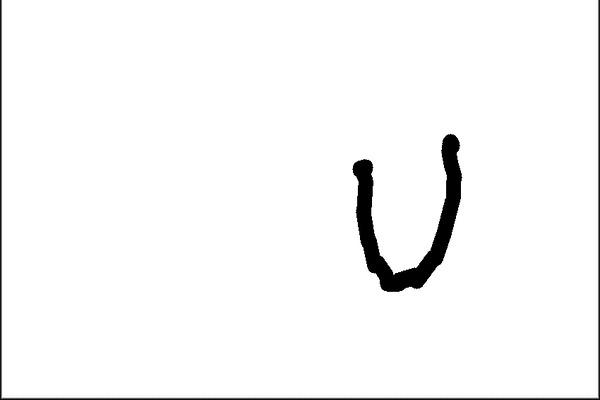U: (338, 126, 466, 296)
